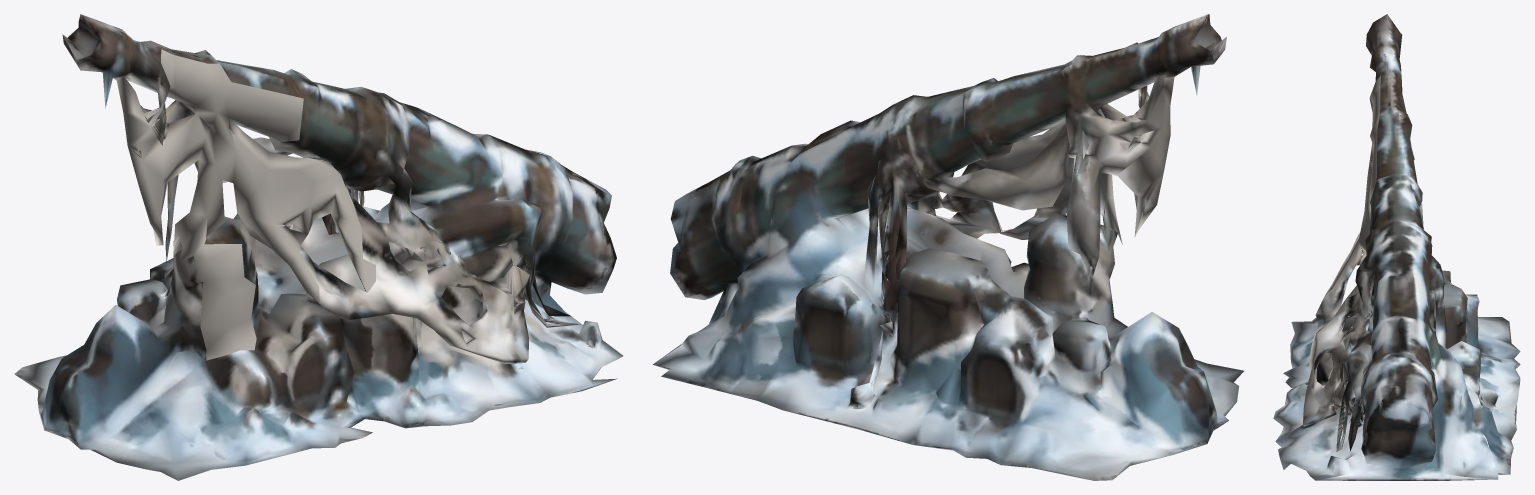
File: SM_Tripo_FrostSeaMastRuin.glb
3 views of the same model, side by side, from view 1: azimuth 30°, elevation 25°; view 2: azimuth 150°, elevation 25°; view 3: azimuth 270°, elevation 25° (orthographic). The views are drawn at different scales.
Parts seen in each view (by area): view 1: SM_Tripo_FrostSeaMastRuin_LOD0; view 2: SM_Tripo_FrostSeaMastRuin_LOD0; view 3: SM_Tripo_FrostSeaMastRuin_LOD0.
Part boxes in pixels (x1,y1,x2,y2): SM_Tripo_FrostSeaMastRuin_LOD0: [14, 14, 623, 480]; SM_Tripo_FrostSeaMastRuin_LOD0: [653, 14, 1244, 480]; SM_Tripo_FrostSeaMastRuin_LOD0: [1273, 14, 1520, 480].
Bounding box in the file's own units: 2.16 × 1.58 × 1.19.
1 material, 1 textured.
